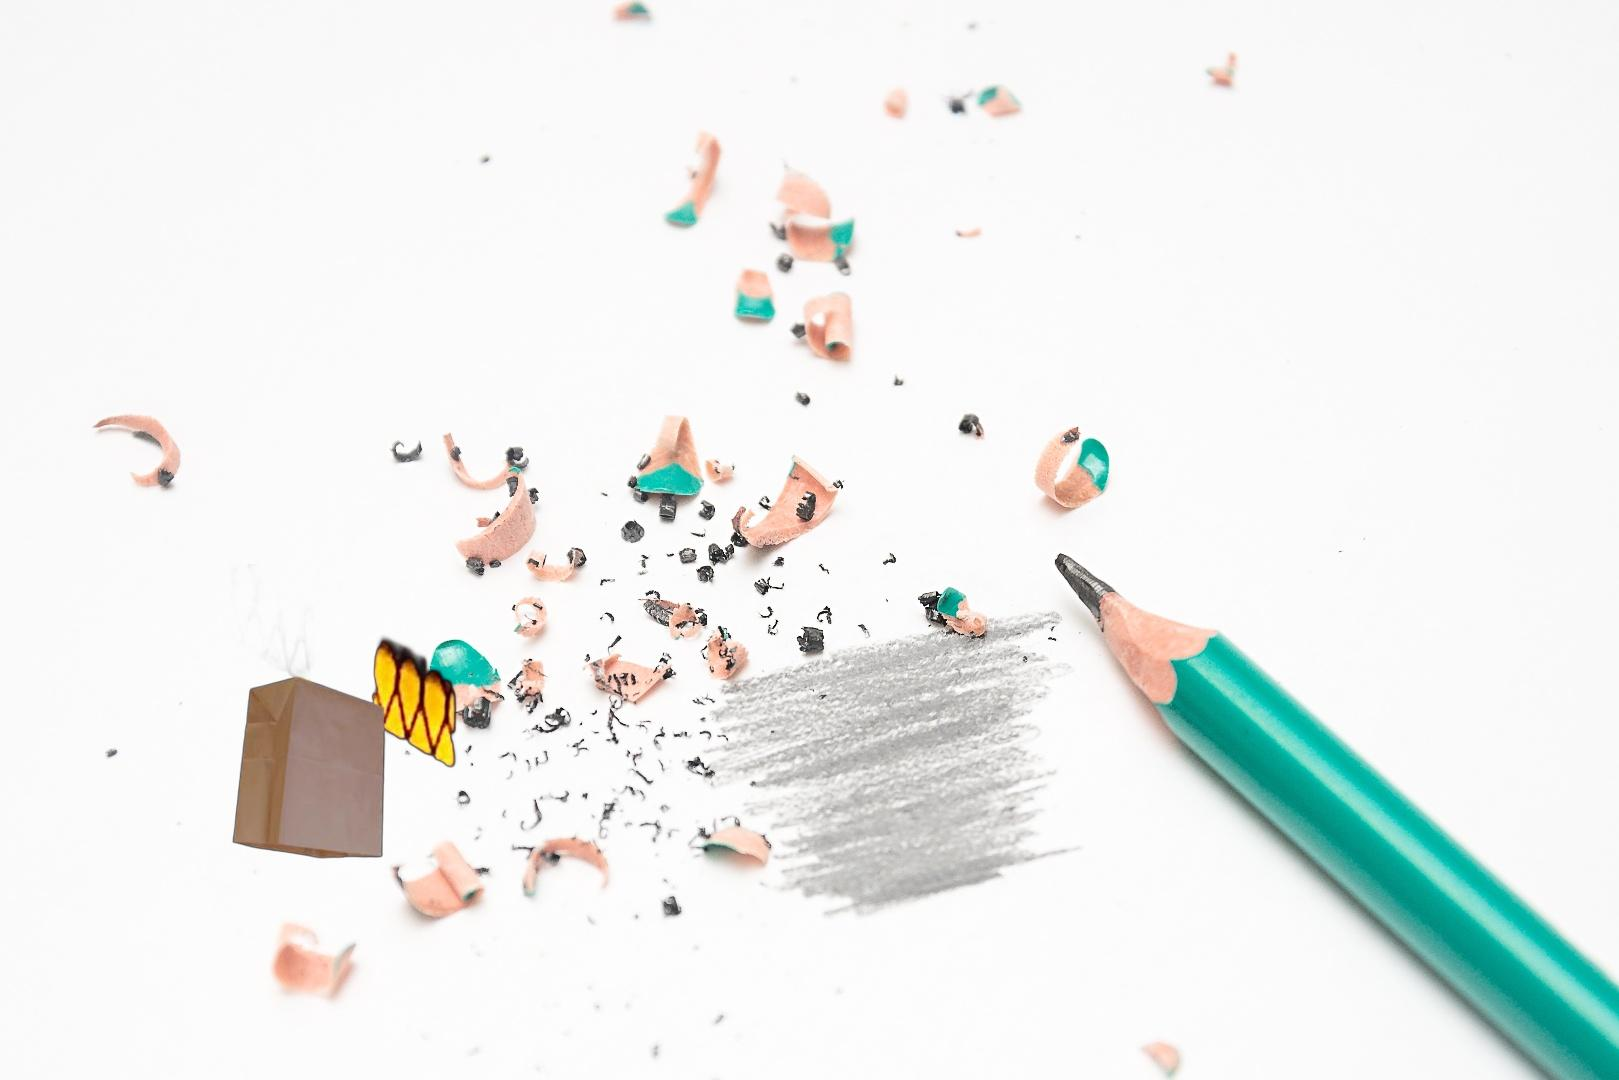paper-bag: (223, 564, 459, 861)
